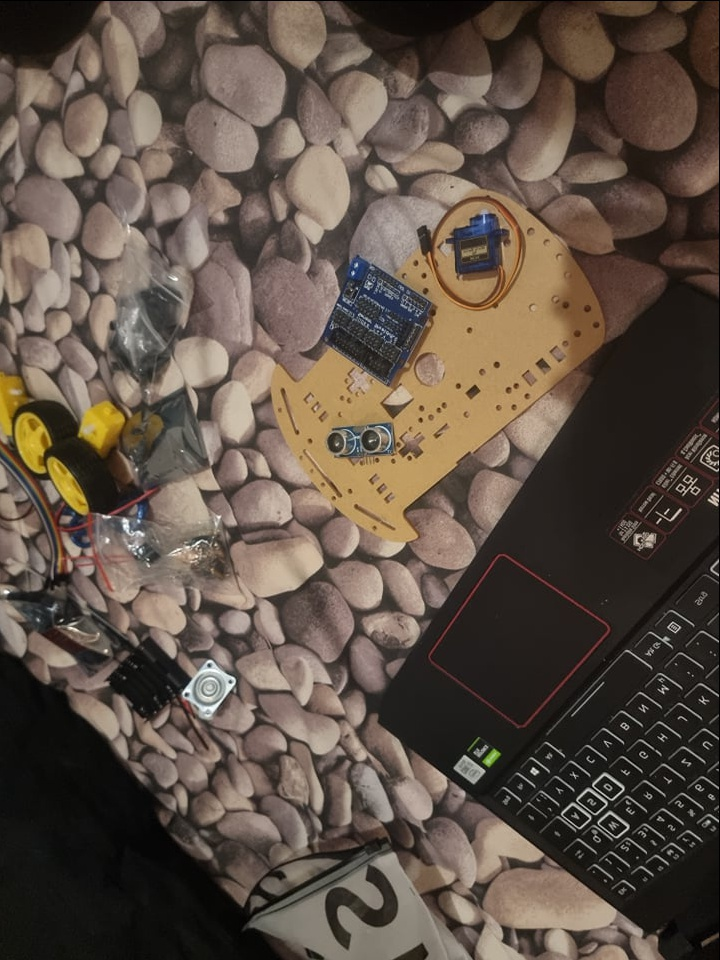5V EXPANSION: (318, 257, 436, 384)
BATTERY BOX: (103, 640, 189, 721)
SENSOR: (322, 422, 401, 461)
